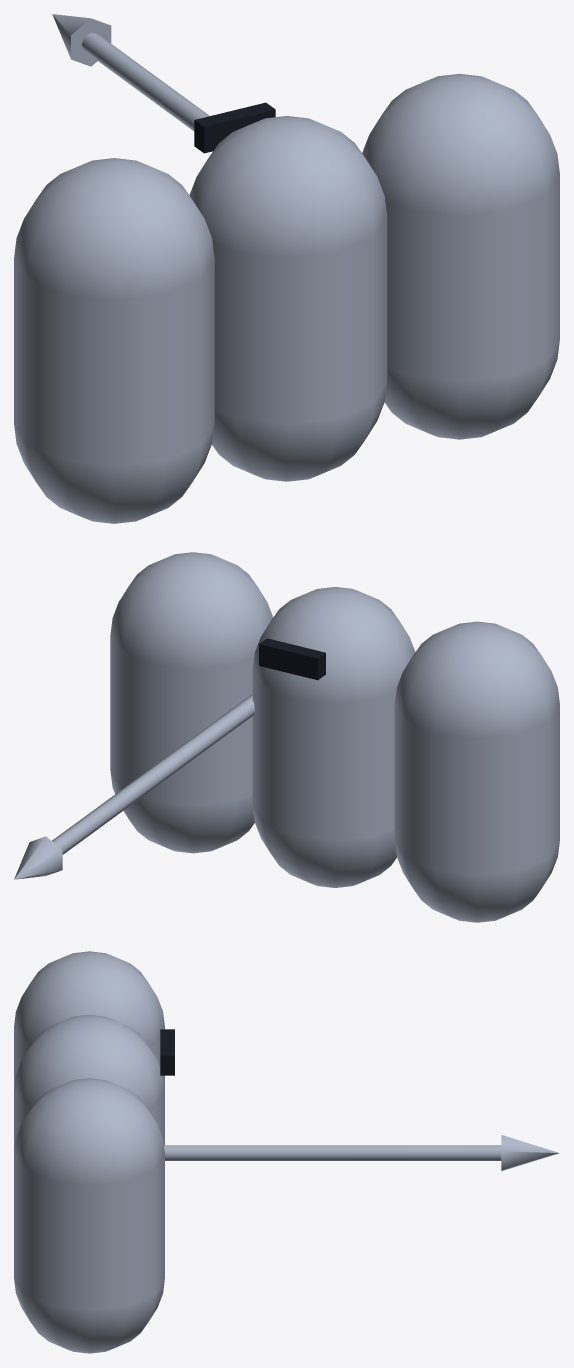
The model's file is enemy-playground-pike-wall-trio-v1.glb.
3 views of the same model, one above another, from view 1: azimuth 30°, elevation 25°; view 2: azimuth 150°, elevation 25°; view 3: azimuth 270°, elevation 25° (orthographic). The views are drawn at different scales.
Visible parts, largest first — view 1: Pike Wall Trio; view 2: Pike Wall Trio; view 3: Pike Wall Trio.
Part boxes in pixels (left/top/right/bottom): Pike Wall Trio: left=14, top=14, right=559, bottom=523; Pike Wall Trio: left=14, top=552, right=559, bottom=922; Pike Wall Trio: left=14, top=951, right=559, bottom=1353.
Bounding box in the file's own units: 2.47 × 1.57 × 2.98.
